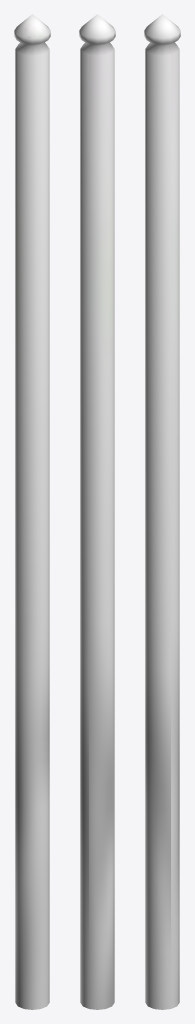
Rendered from Chinese_Staff.fbx.
3 renders of one model, left to right at view 1: azimuth 90°, elevation 25°; view 2: azimuth 210°, elevation 25°; view 3: azimuth 270°, elevation 25°, orthographic.
Visible parts, largest first — view 1: Chinese_Staff; view 2: Chinese_Staff; view 3: Chinese_Staff.
Boxes of the visible parts, x1=… form: Chinese_Staff: x1=14, y1=14, x2=50, y2=1009; Chinese_Staff: x1=79, y1=14, x2=115, y2=1009; Chinese_Staff: x1=144, y1=14, x2=180, y2=1009.
Size of the model in its own units: 0.323 by 9.68 by 0.323.
